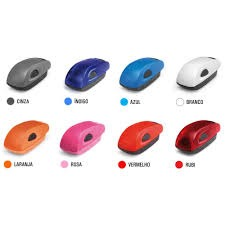mouse: (170, 110, 225, 160), (110, 48, 167, 96), (113, 109, 163, 160), (169, 50, 225, 93), (3, 49, 51, 98), (61, 109, 103, 160), (65, 48, 108, 96), (6, 114, 48, 158)
